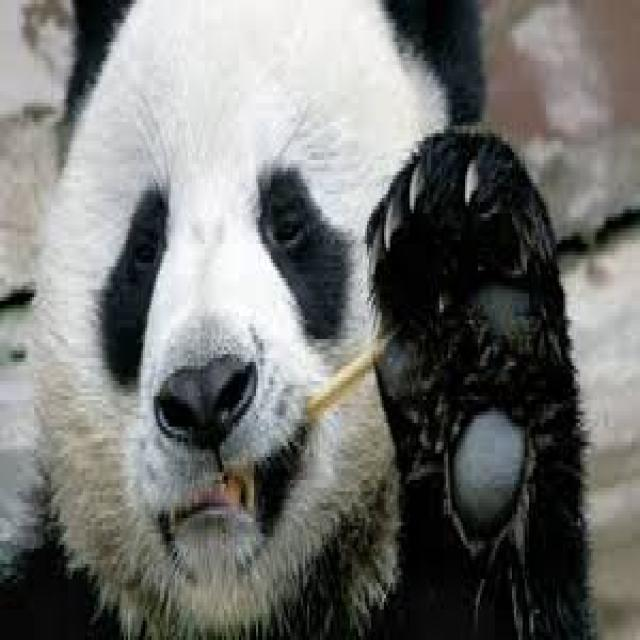Panda: (24, 0, 603, 634)
